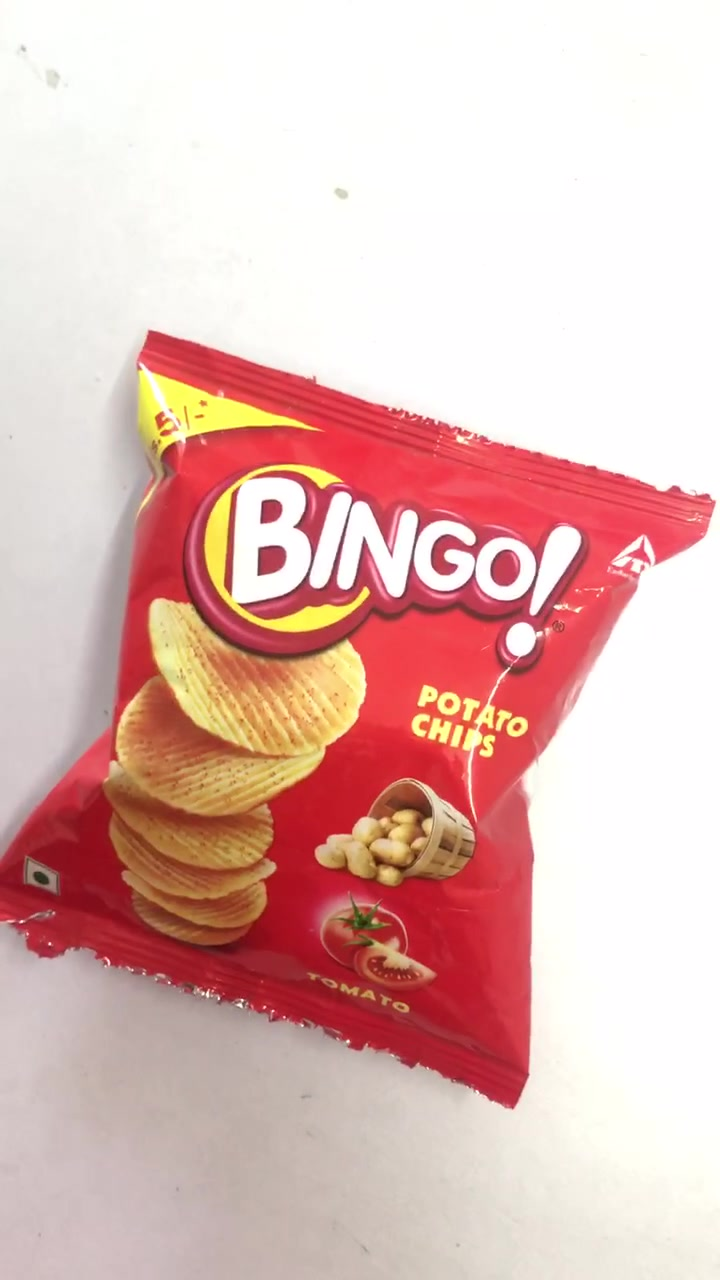Bingo: (2, 330, 714, 1110)
